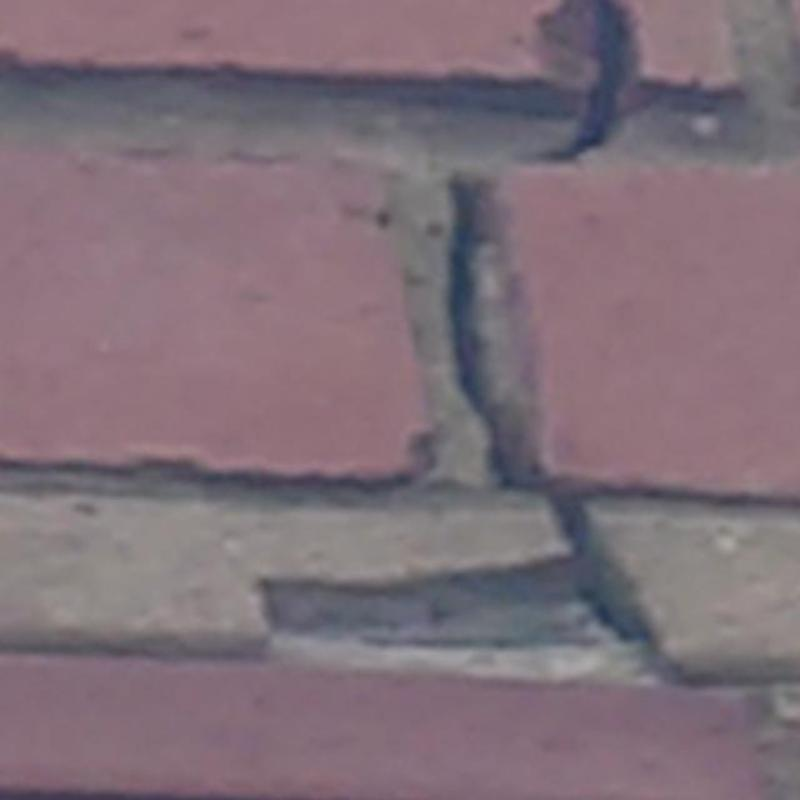pothole: (448, 180, 650, 643), (550, 0, 636, 159)
